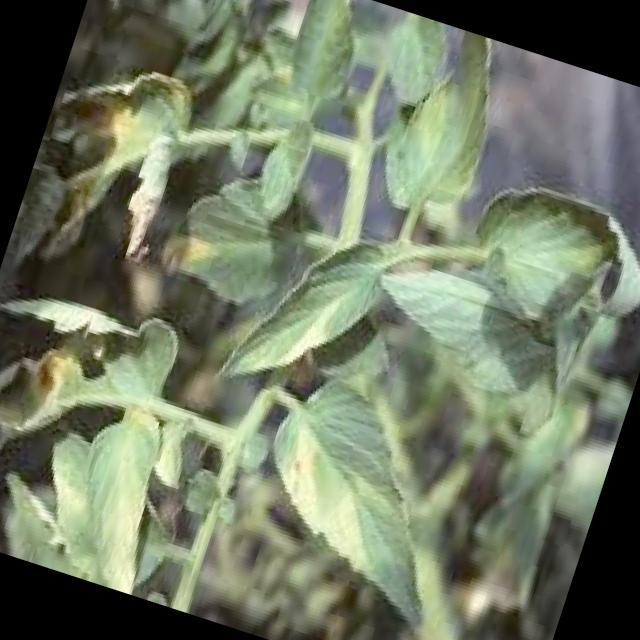Tomato mold leaf: (225, 366, 484, 635), (203, 207, 392, 433), (443, 172, 640, 348), (136, 148, 322, 324), (362, 27, 513, 240), (50, 413, 184, 592)
